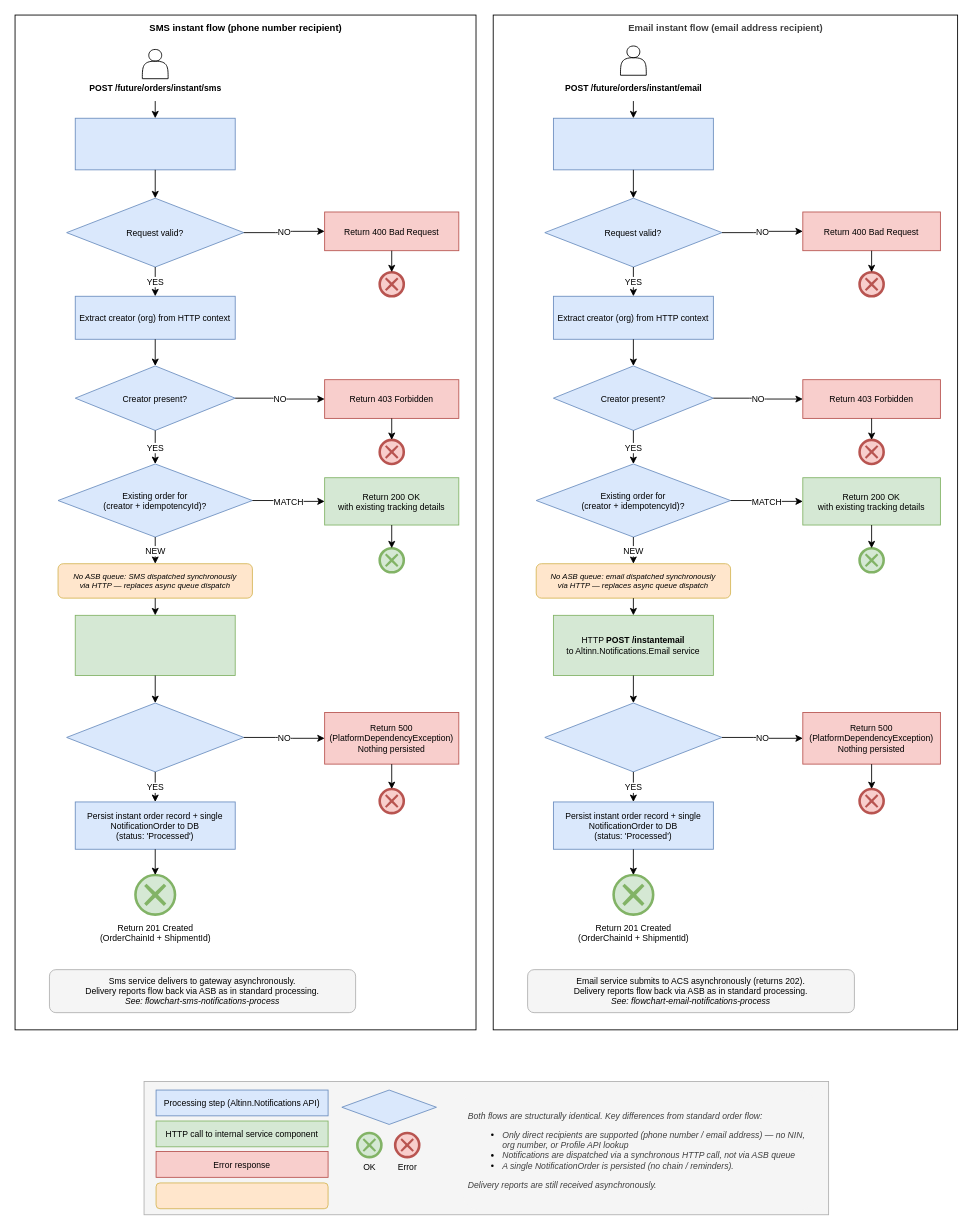
Some shapes in this 973 by 1230 pixel diagram are drawn without their labels. The shapes that lost their labels are listed below. From the top down, each one's box as (x1, y1, x2, y2) in pixels, then its label:
(74, 117, 235, 170): Validate request (idempotencyId, phoneNumber, timeToLive, smsSettings)
(553, 117, 713, 170): Validate request (idempotencyId, emailAddress, subject, body, contentType)
(74, 614, 235, 676): HTTP POST /instantmessage/send to Altinn.Notifications.Sms service
(66, 702, 244, 772): Service returned 200 response?
(544, 702, 722, 772): Service returned 202 response?
(341, 1089, 436, 1124): Decision
(155, 1182, 328, 1209): Architectural note
